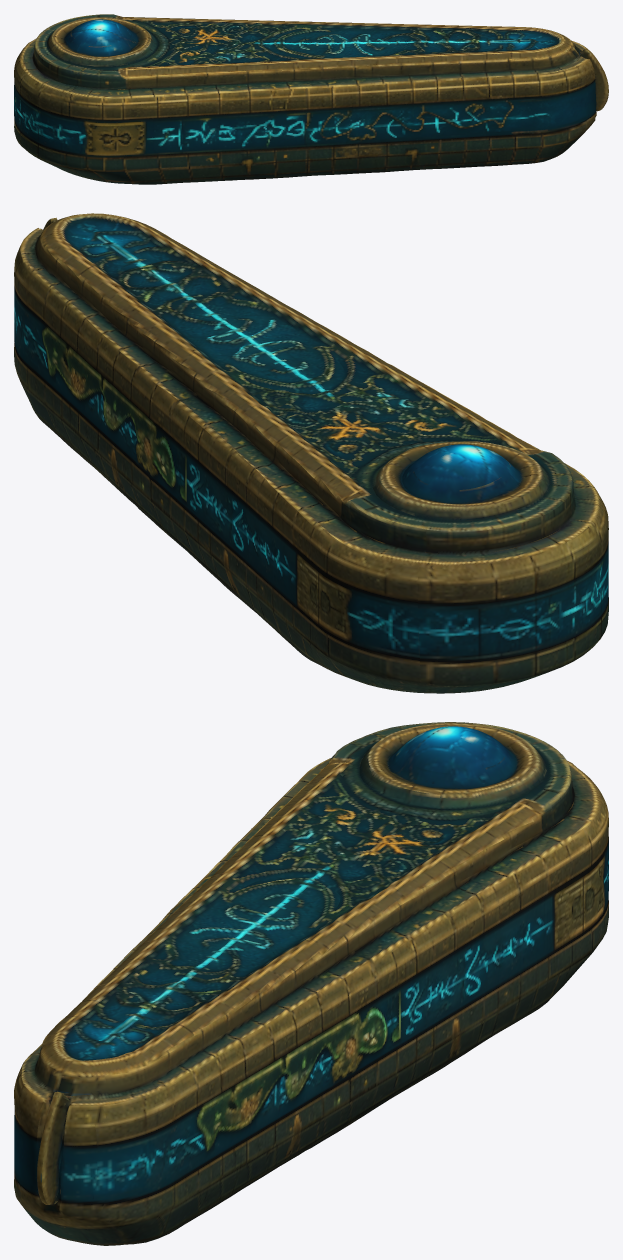
The model's file is Right_flipper_lvl_2.glb.
The picture shows the model from 3 angles, top to bottom: view 1: azimuth 30°, elevation 25°; view 2: azimuth 150°, elevation 25°; view 3: azimuth 270°, elevation 25°; orthographic projection. The views are drawn at different scales.
Parts seen in each view (by area): view 1: Mesh0; view 2: Mesh0; view 3: Mesh0.
Part boxes in pixels (left/top/right/bottom): Mesh0: left=14, top=14, right=608, bottom=184; Mesh0: left=14, top=213, right=608, bottom=693; Mesh0: left=14, top=722, right=608, bottom=1245.
Size of the model in its own units: 1.92 by 0.5024 by 1.26.
1 material, 1 textured.
